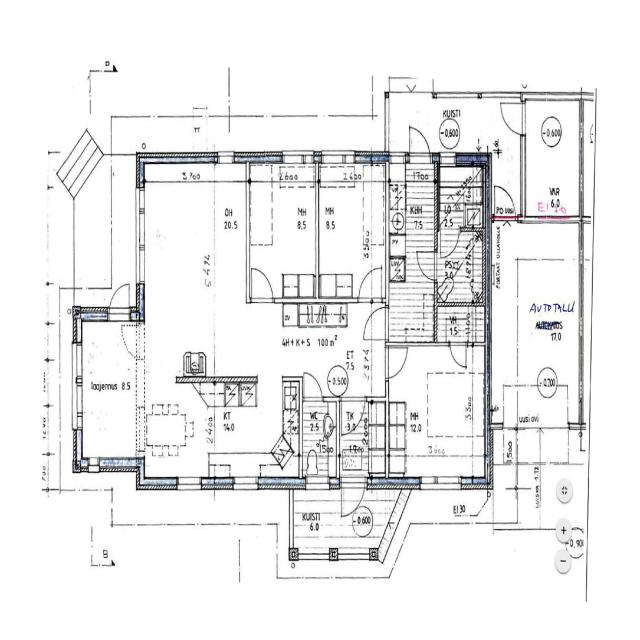door: (338, 473, 368, 520), (248, 263, 276, 305), (498, 96, 526, 136), (340, 396, 368, 436), (384, 340, 410, 380), (107, 280, 132, 319), (362, 305, 388, 341), (492, 181, 516, 219), (407, 124, 431, 160), (356, 266, 380, 302), (300, 368, 325, 401), (415, 248, 438, 282), (438, 226, 461, 258), (448, 338, 470, 370), (120, 326, 140, 360)
window: (132, 185, 148, 287), (526, 209, 580, 228), (518, 132, 528, 214), (418, 473, 462, 490), (335, 546, 373, 564), (230, 472, 261, 493), (296, 545, 332, 563), (575, 219, 588, 267), (174, 473, 204, 492), (71, 341, 84, 383), (135, 362, 145, 406), (323, 149, 354, 163), (282, 150, 314, 163), (215, 148, 236, 165)
zone: (143, 158, 251, 384), (492, 218, 582, 426), (142, 380, 299, 484), (386, 343, 486, 478), (248, 300, 387, 397), (248, 162, 318, 302), (318, 157, 387, 299), (75, 319, 140, 464), (389, 158, 436, 344), (523, 93, 584, 217), (436, 230, 486, 304), (437, 157, 486, 230), (300, 398, 338, 479), (434, 303, 486, 342)
